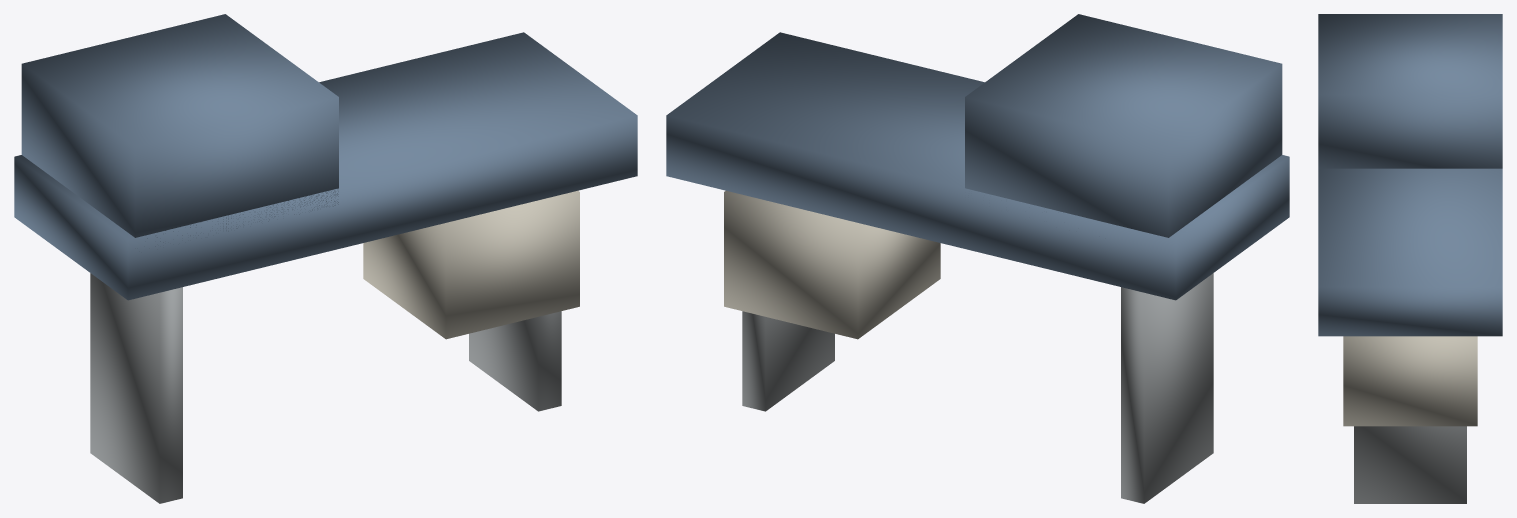
The model's file is exam_table__compact.glb.
The picture shows the model from 3 angles, left to right: view 1: azimuth 30°, elevation 25°; view 2: azimuth 150°, elevation 25°; view 3: azimuth 270°, elevation 25°; orthographic projection. The views are drawn at different scales.
Parts seen in each view (by area): view 1: world; view 2: world; view 3: world.
Boxes of the visible parts, bbox=[...] form: world: bbox=[14, 14, 637, 503]; world: bbox=[666, 14, 1289, 503]; world: bbox=[1318, 14, 1502, 503].
Size of the model in its own units: 1.47 by 1.06 by 0.5676.
